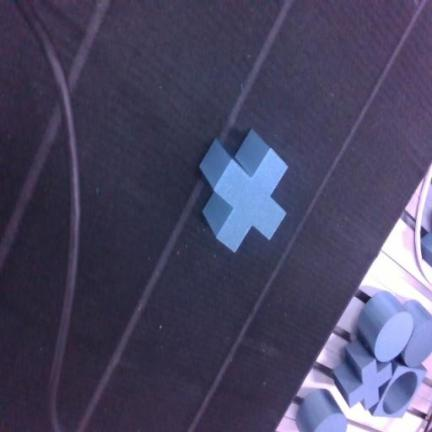cross: (200, 130, 286, 251), (334, 341, 392, 409)
